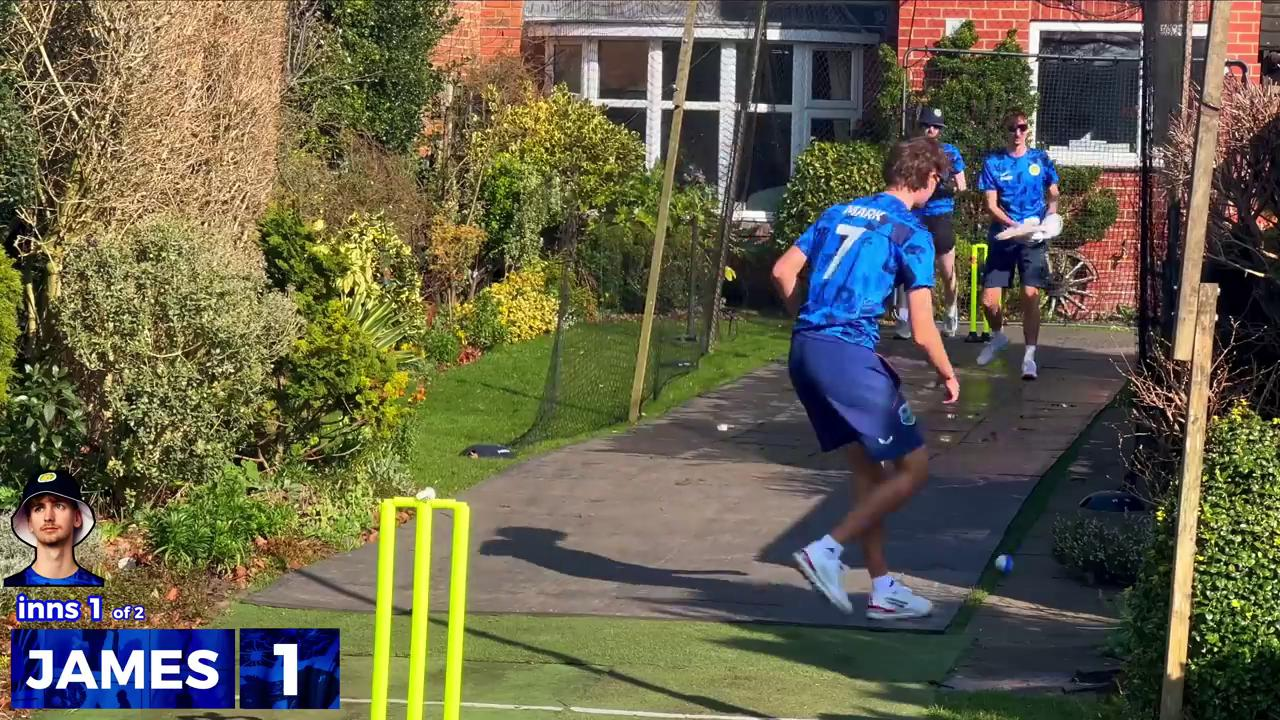ball: (986, 545, 1022, 581)
